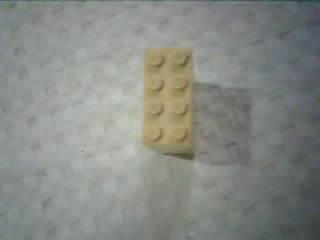lego: (137, 43, 198, 160)
